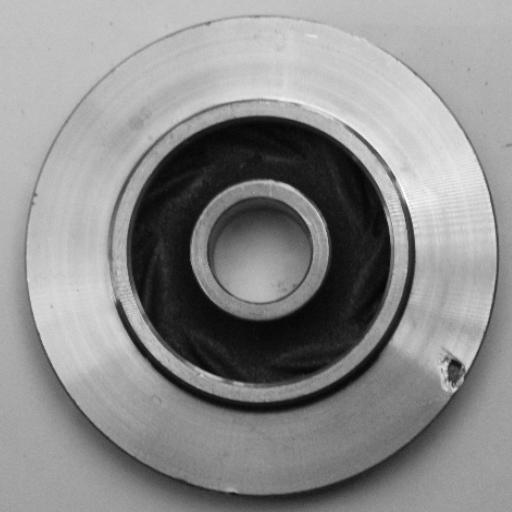crack: (424, 338, 485, 417)
scratch: (273, 86, 346, 130), (103, 242, 128, 306)
unpolished_casting: (20, 15, 499, 500)
